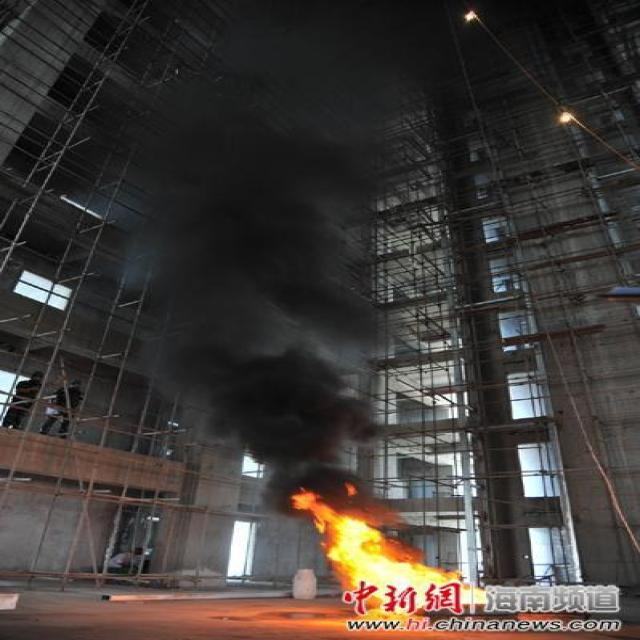fire: (232, 455, 558, 630)
smoke: (120, 46, 419, 498)
